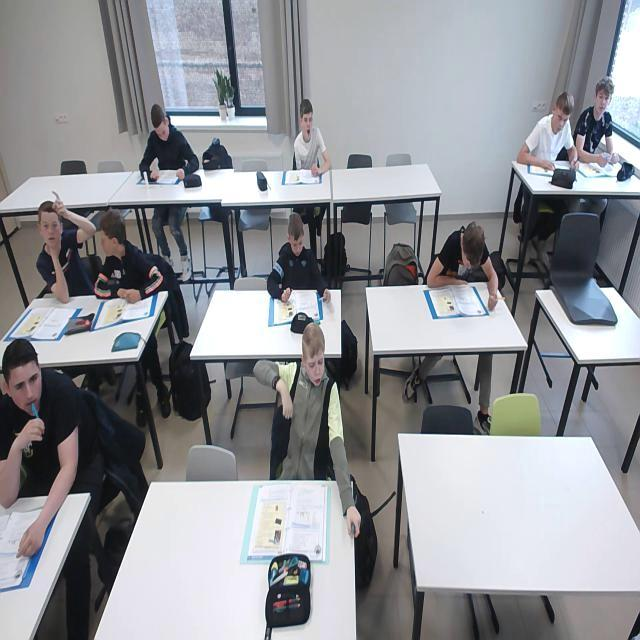Raising hand: (4, 339, 100, 557), (35, 192, 96, 309)
